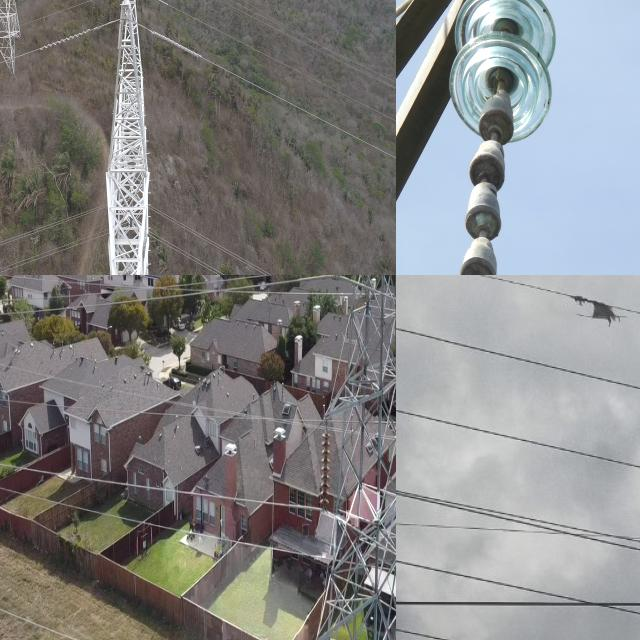杆塔: (306, 275, 396, 640), (102, 0, 154, 275)
植被遮挡: (548, 284, 636, 329)
正常电缆: (137, 20, 396, 162), (150, 0, 396, 127), (4, 481, 303, 567), (216, 0, 396, 91), (9, 456, 297, 512), (148, 202, 278, 275), (0, 192, 129, 249), (0, 14, 124, 67), (6, 594, 135, 640), (0, 226, 111, 274), (147, 225, 234, 275), (0, 0, 103, 37)
正常绝缘子: (414, 0, 560, 275), (317, 418, 334, 518)
绝缘子破损: (463, 199, 503, 248), (468, 154, 507, 200), (478, 107, 516, 153), (457, 253, 498, 275)
